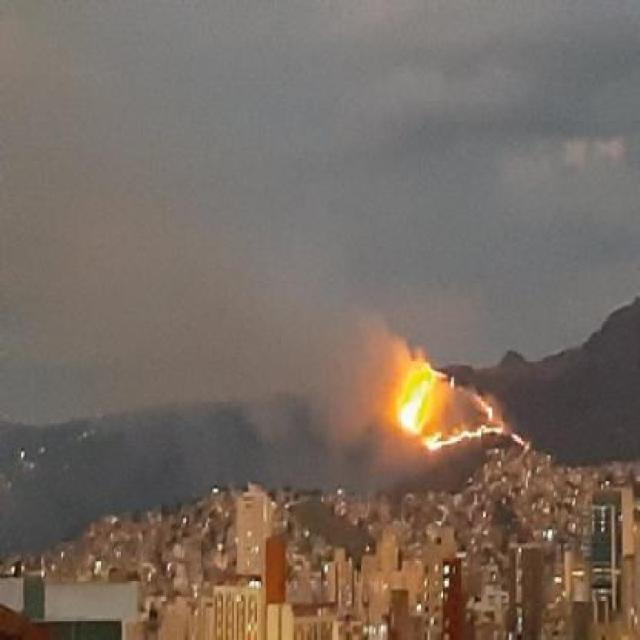Fire: (424, 424, 504, 450), (398, 390, 426, 435), (480, 400, 494, 422)
